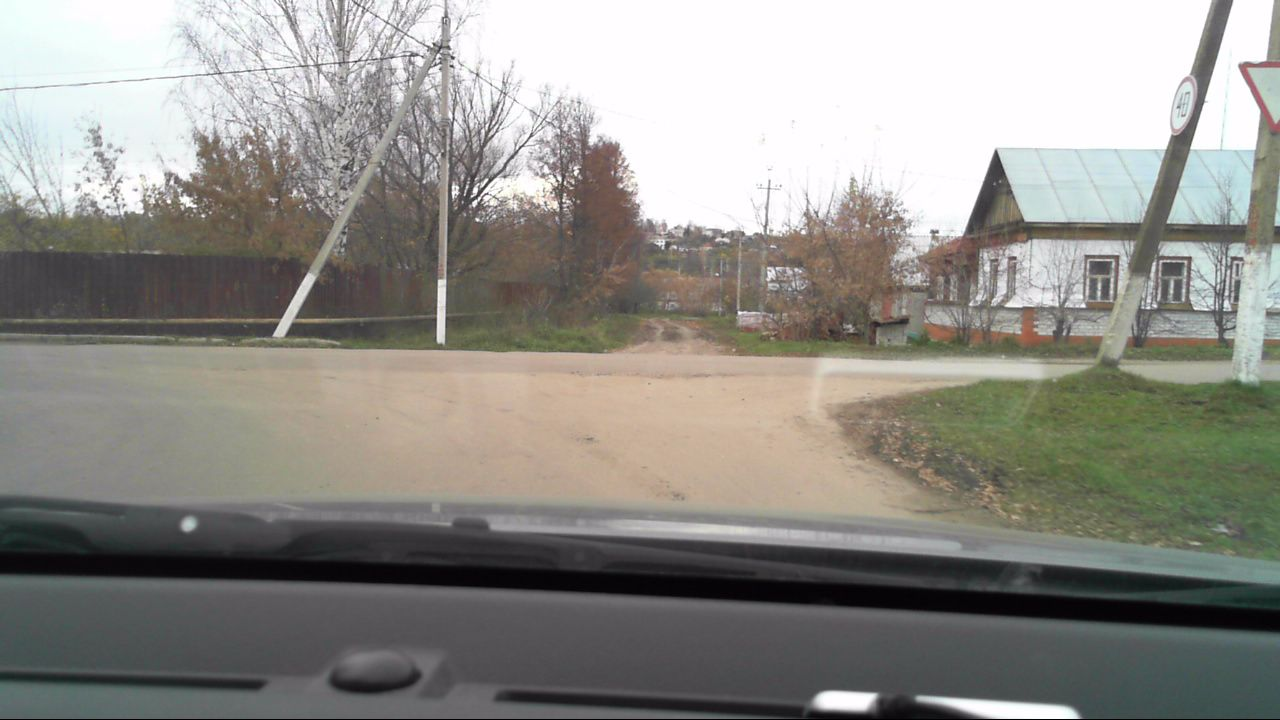speed_warning_40: (1162, 76, 1203, 133)
